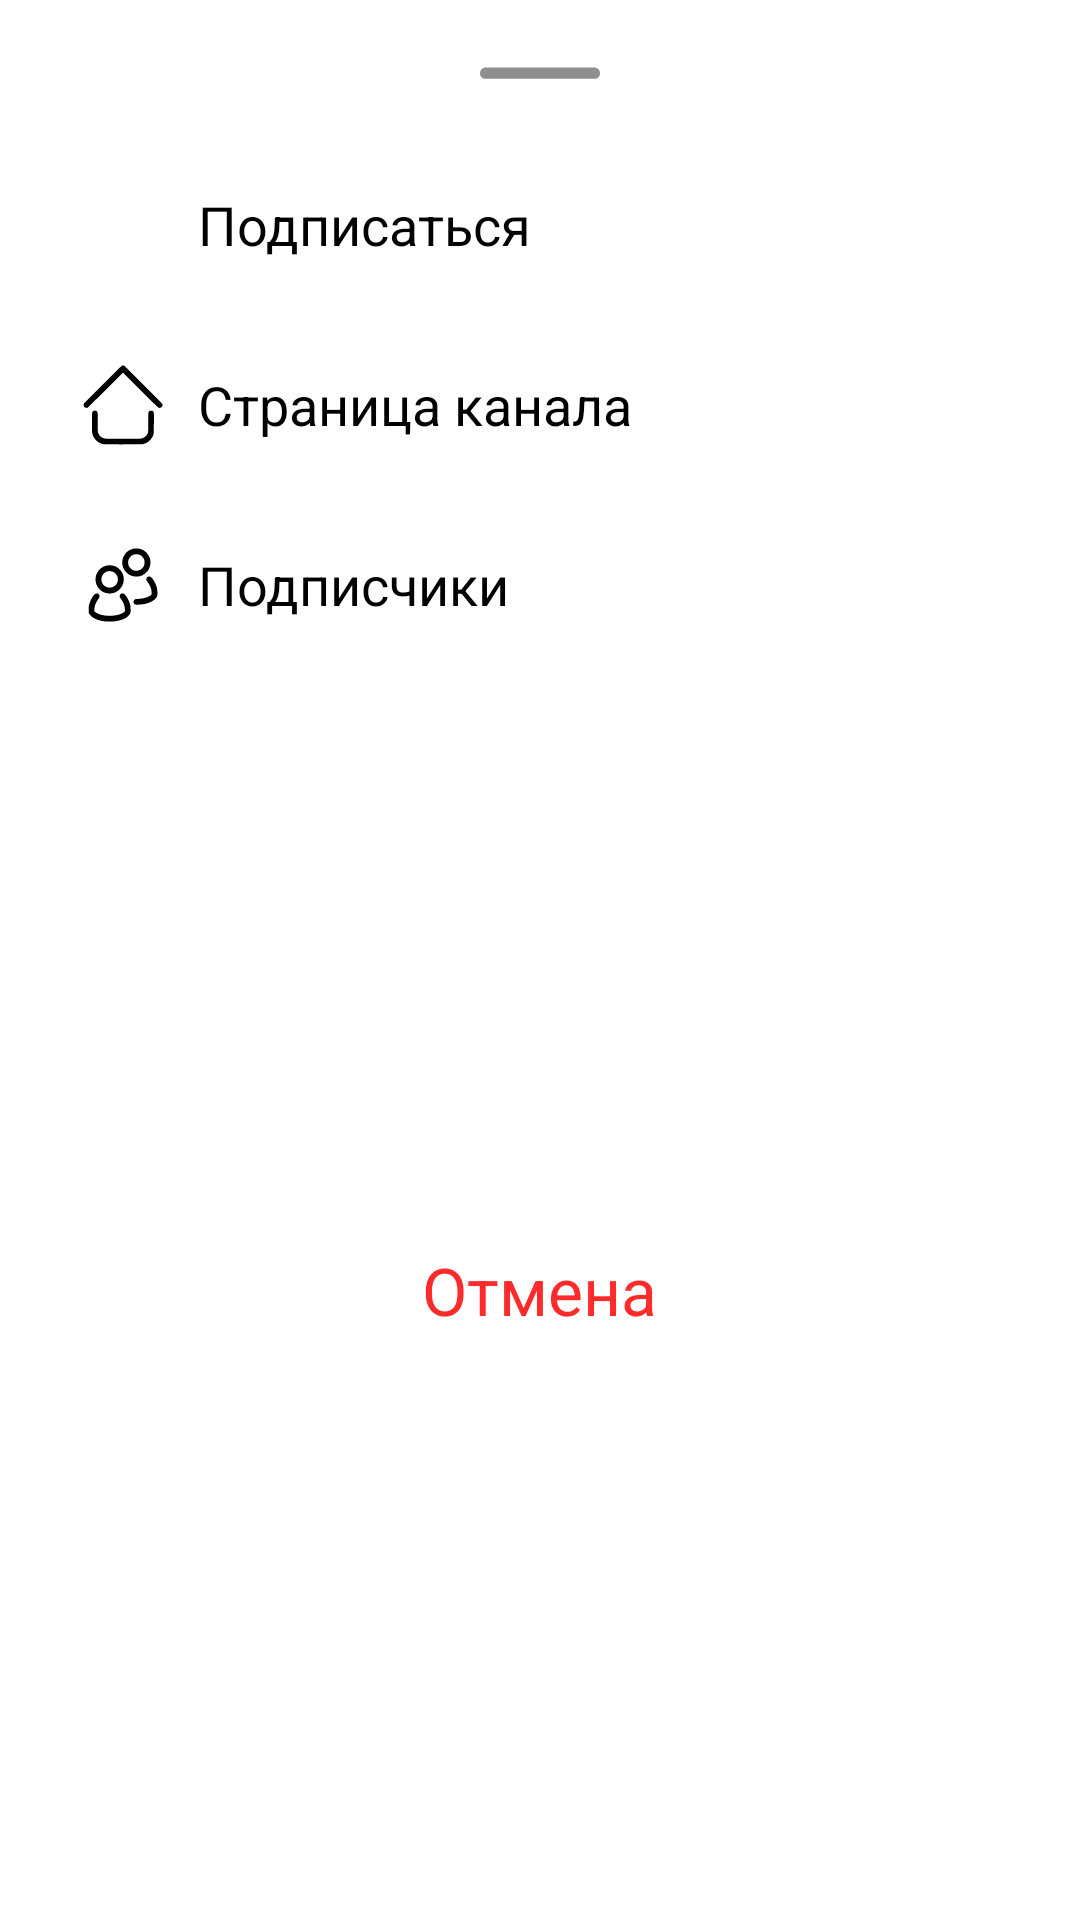

Where icons sit on this 1080x1920 app screen, as (left=x1, top=y1, right=x2, bottom=y2):
channel home: (left=83, top=365, right=163, bottom=445)
